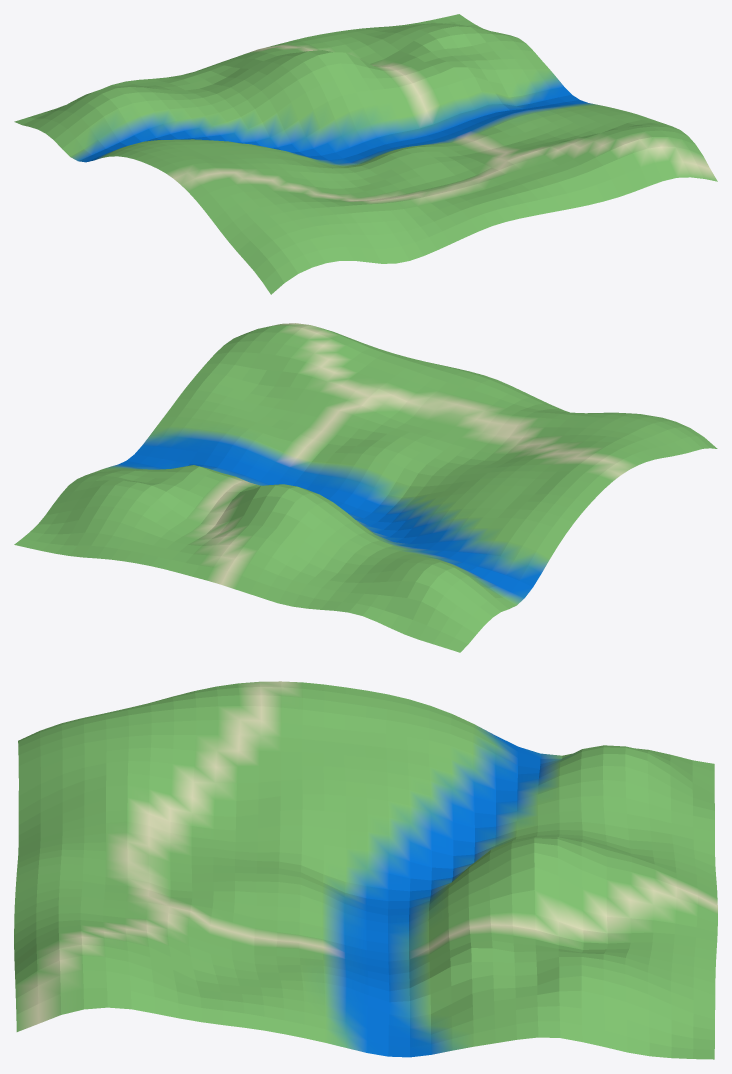
File: Landscape.fbx
3 renders of one model, top to bottom at view 1: azimuth 30°, elevation 25°; view 2: azimuth 150°, elevation 25°; view 3: azimuth 270°, elevation 25°, orthographic. The views are drawn at different scales.
Parts seen in each view (by area): view 1: Plane; view 2: Plane; view 3: Plane.
Part boxes in pixels (<box>): Plane: <box>14,14,717,294</box>; Plane: <box>14,323,717,652</box>; Plane: <box>14,681,717,1059</box>.
Bounding box in the file's own units: 4786 × 647 × 4738.
